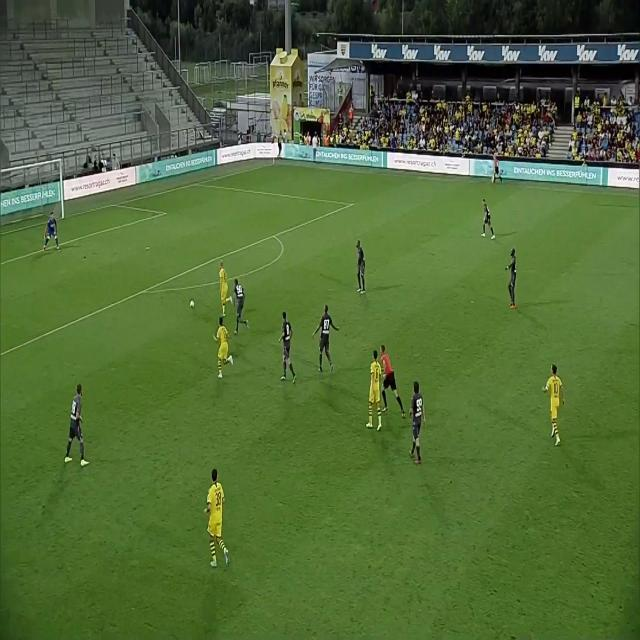ball: (187, 295, 197, 313)
goalkeeper: (41, 213, 62, 253)
player: (199, 467, 232, 571), (60, 381, 88, 477), (540, 356, 566, 448), (273, 309, 299, 386), (312, 300, 337, 376), (364, 349, 385, 432), (408, 375, 426, 465), (211, 319, 234, 383), (503, 244, 521, 314), (231, 276, 249, 333), (216, 257, 232, 315), (478, 194, 496, 245), (354, 238, 369, 297)
referee: (376, 347, 406, 420), (491, 153, 504, 186)
